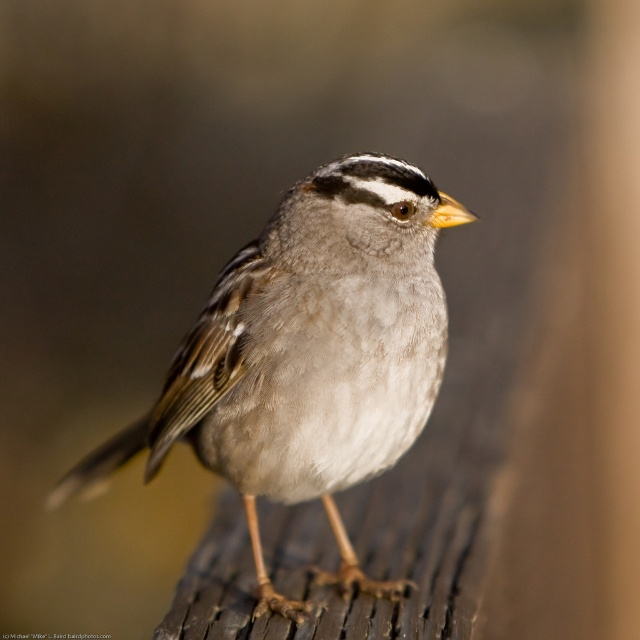Sparrow: (46, 150, 479, 626)
